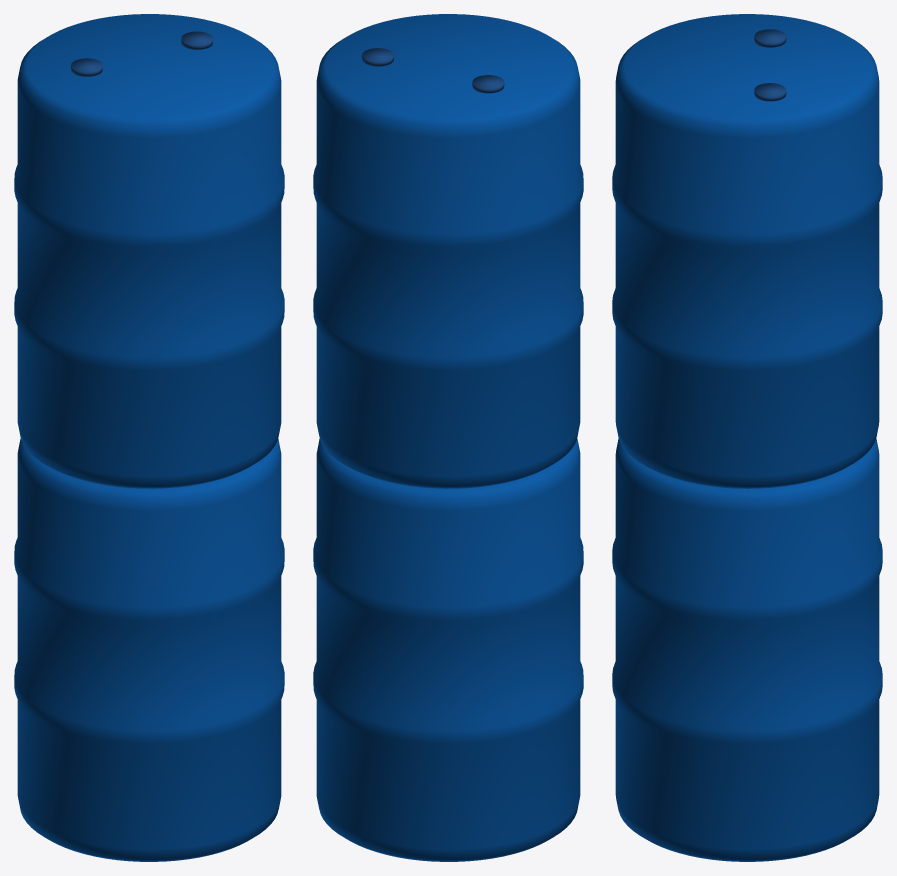
Rendered from obj_barrel_stack.glb.
The picture shows the model from 3 angles, left to right: view 1: azimuth 30°, elevation 25°; view 2: azimuth 150°, elevation 25°; view 3: azimuth 270°, elevation 25°; orthographic projection.
Visible parts, largest first — view 1: barrel_stack_body; view 2: barrel_stack_body; view 3: barrel_stack_body.
Part boxes in pixels (x1,y1,x2,y2): barrel_stack_body: (14, 14, 284, 861); barrel_stack_body: (313, 14, 583, 861); barrel_stack_body: (612, 14, 882, 861).
Size of the model in its own units: 0.594 by 1.82 by 0.594.
2 materials, 1 textured.
